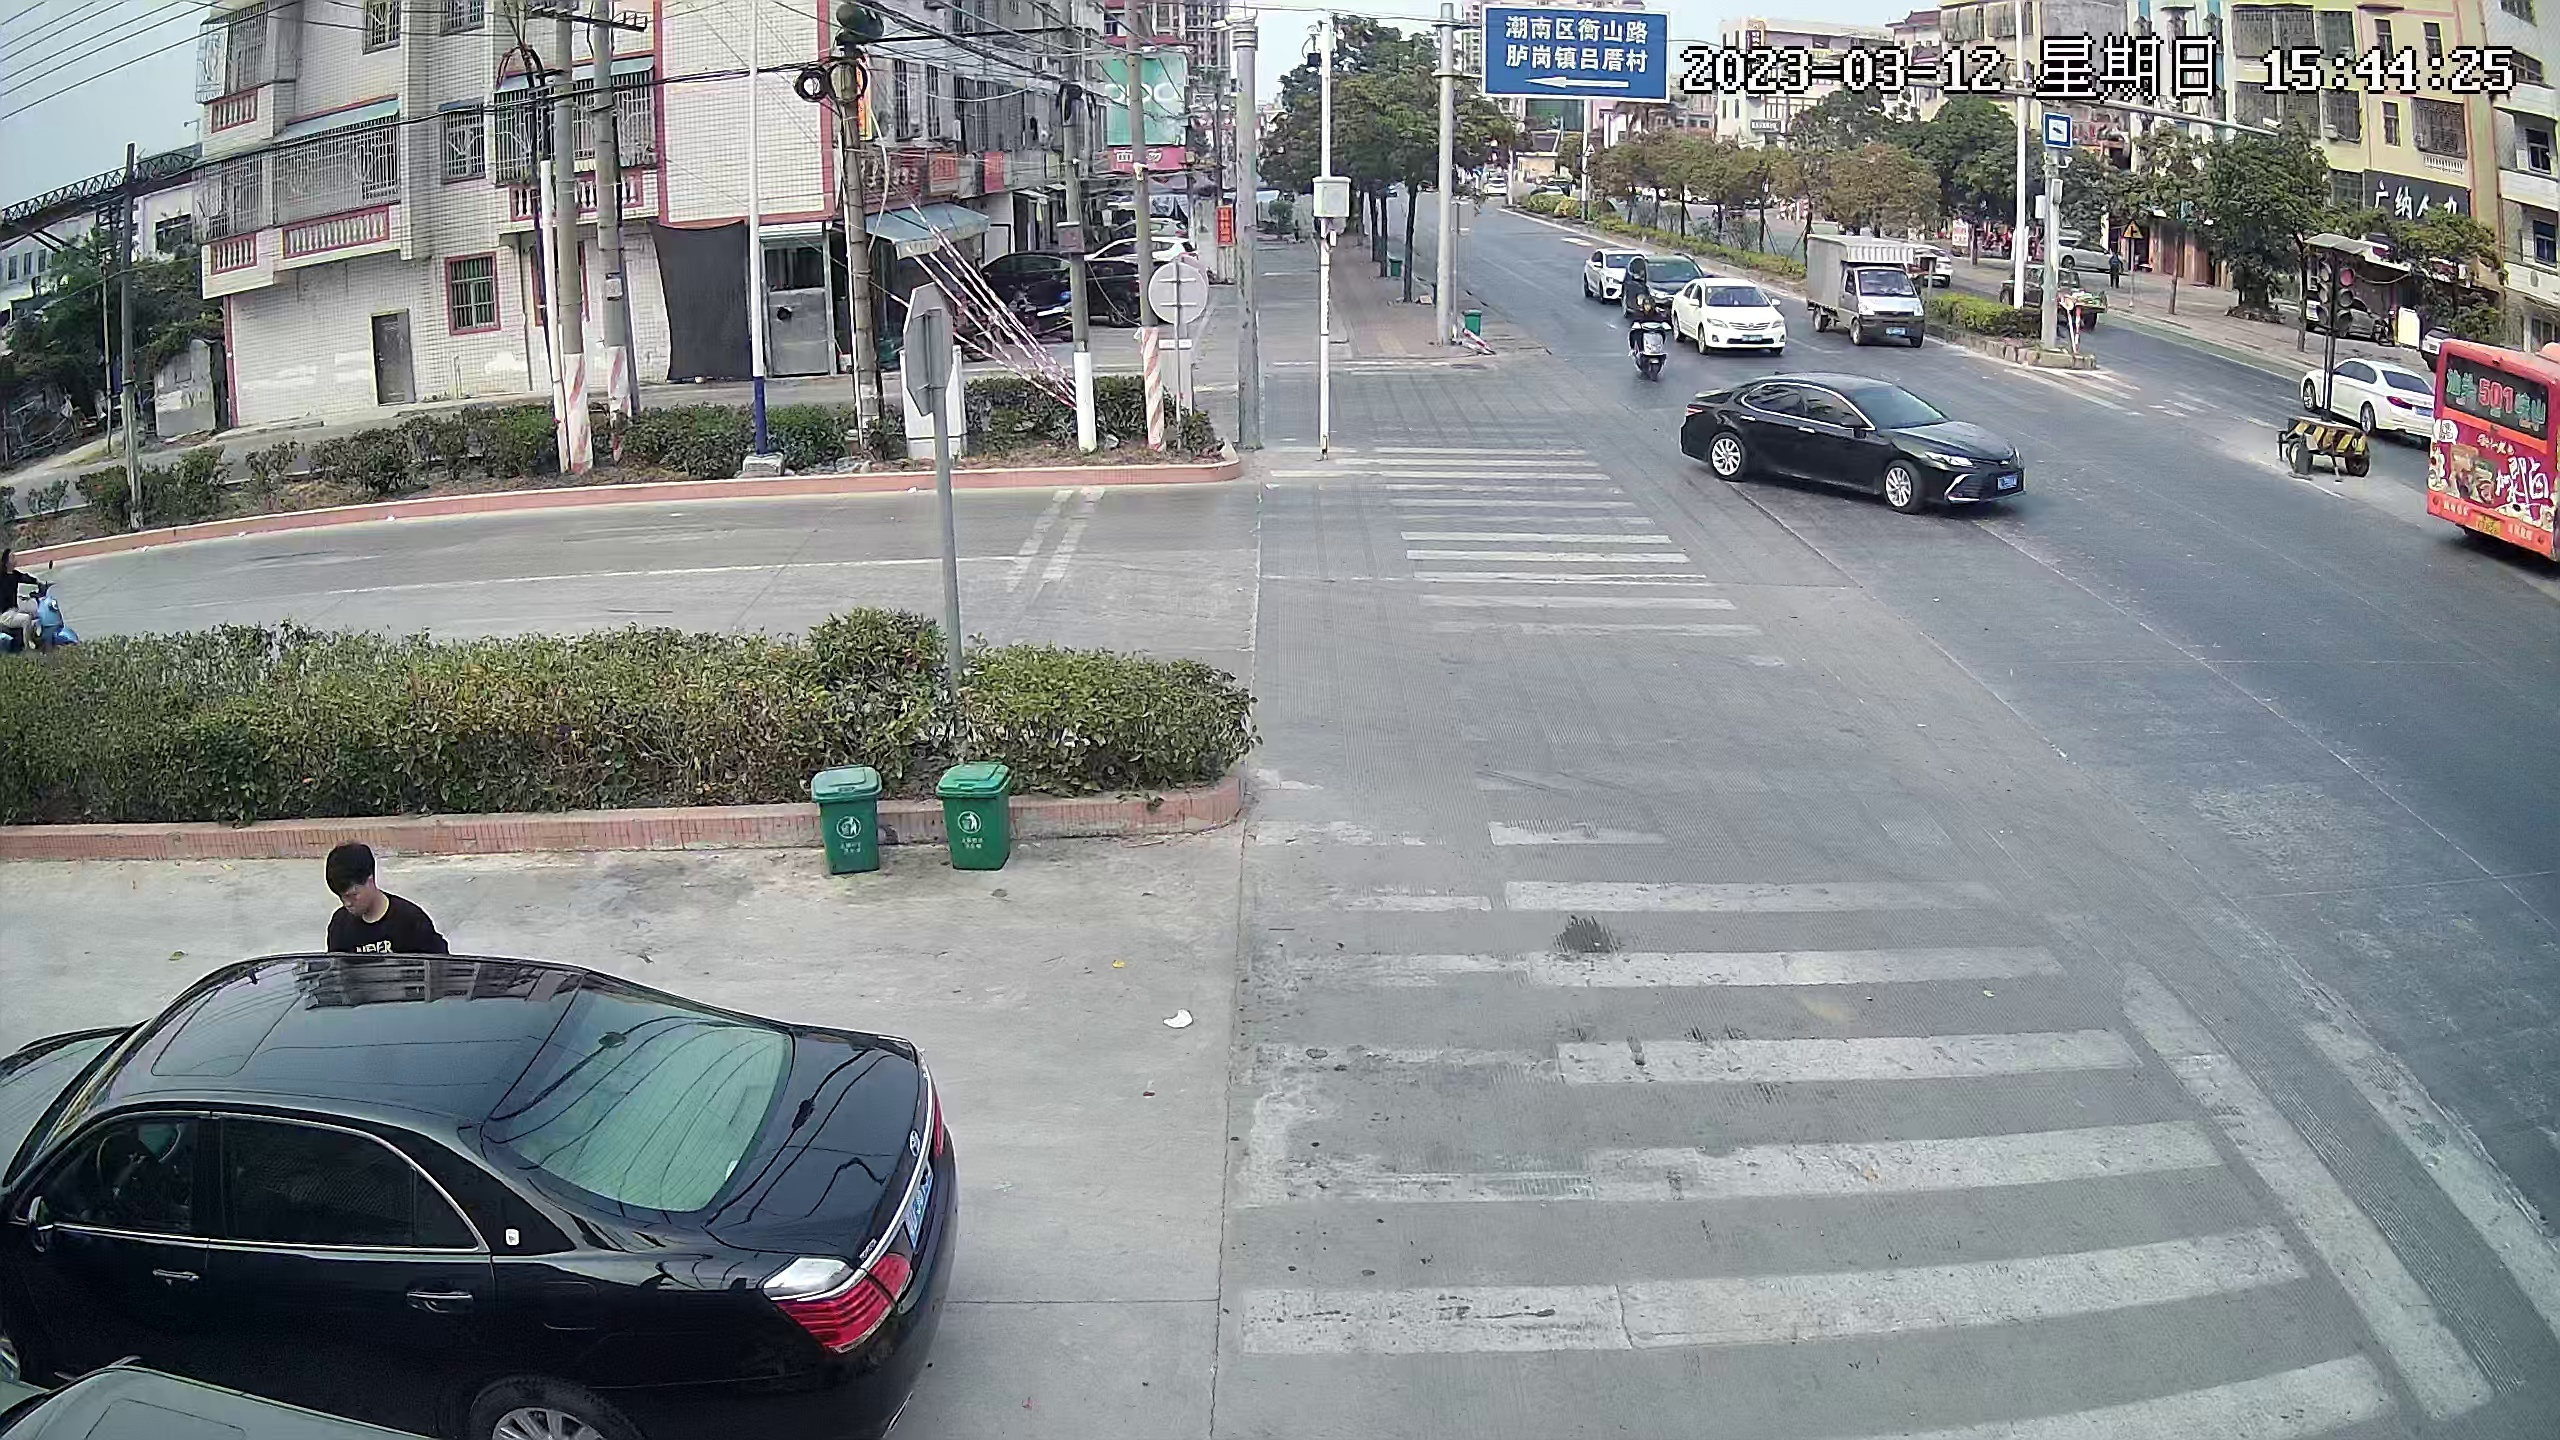bus: (2439, 329, 2560, 578)
head: (314, 833, 409, 940)
motorcycle: (1, 557, 94, 650), (1625, 292, 1673, 387), (999, 294, 1079, 343)
person: (4, 543, 48, 652)
sedan: (5, 964, 950, 1415), (1680, 370, 2035, 529), (2305, 363, 2439, 440), (1683, 283, 1787, 360), (2300, 287, 2389, 353), (1073, 259, 1145, 323), (2057, 229, 2119, 279), (1582, 244, 1627, 299)
suv: (1628, 259, 1703, 309), (1094, 235, 1205, 265)
truck: (1803, 233, 1929, 355), (2005, 267, 2108, 330)
